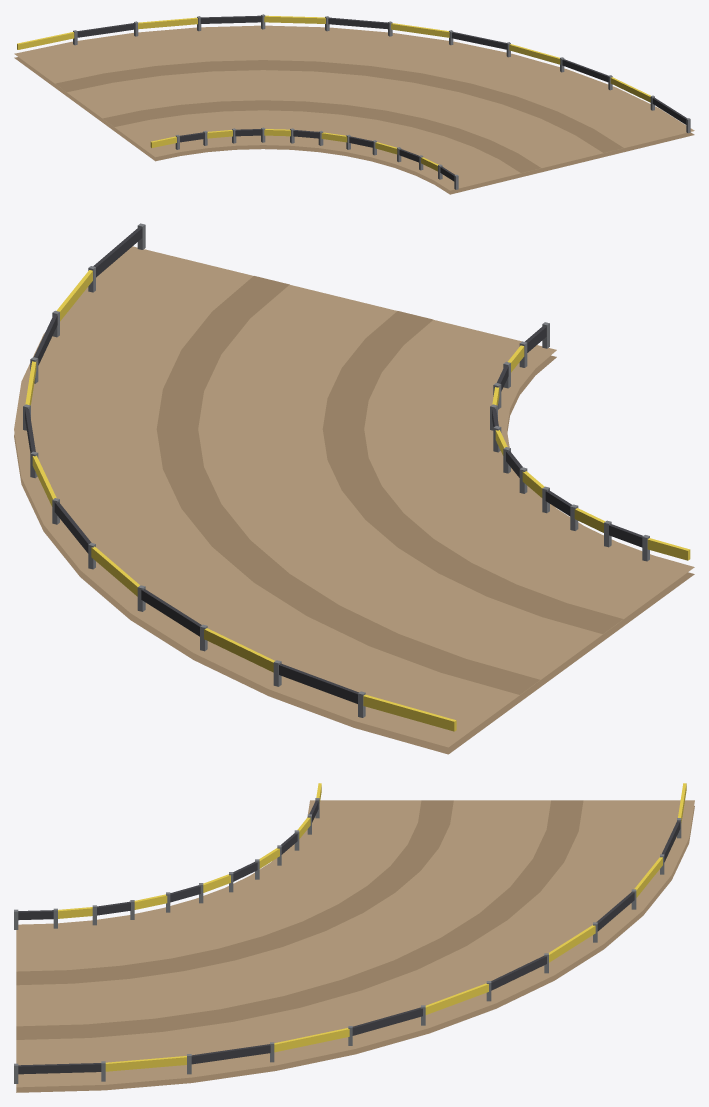
Rendered from wasteland_track_curve.glb.
The picture shows the model from 3 angles, top to bottom: view 1: azimuth 30°, elevation 25°; view 2: azimuth 150°, elevation 25°; view 3: azimuth 270°, elevation 25°; orthographic projection. The views are drawn at different scales.
Parts seen in each view (by area): view 1: Track_Curve; view 2: Track_Curve; view 3: Track_Curve.
Boxes of the visible parts, left/top/right/bottom form: Track_Curve: left=14, top=14, right=694, bottom=194; Track_Curve: left=14, top=223, right=694, bottom=754; Track_Curve: left=14, top=783, right=694, bottom=1092.
Size of the model in its own units: 33.53 by 1.3 by 33.61.
